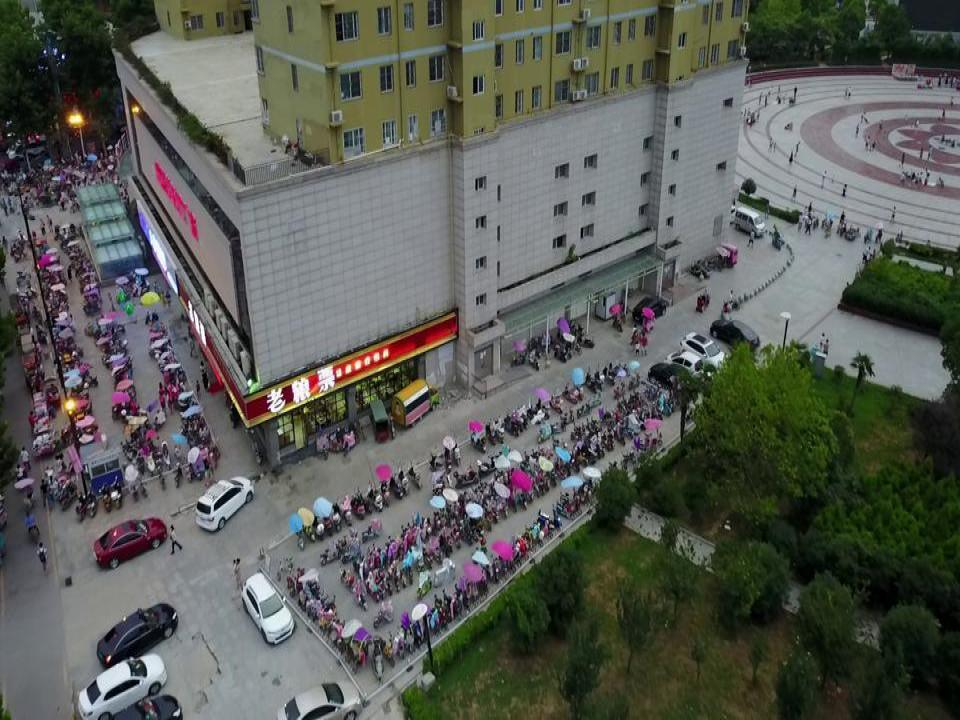car: (74, 649, 168, 720), (95, 601, 178, 671), (85, 514, 168, 570), (239, 572, 297, 647), (274, 676, 363, 720), (193, 475, 254, 533), (676, 328, 729, 371), (107, 693, 184, 720), (707, 315, 762, 349), (646, 359, 697, 393), (662, 347, 707, 380), (631, 294, 666, 322)
van: (734, 205, 767, 239)
